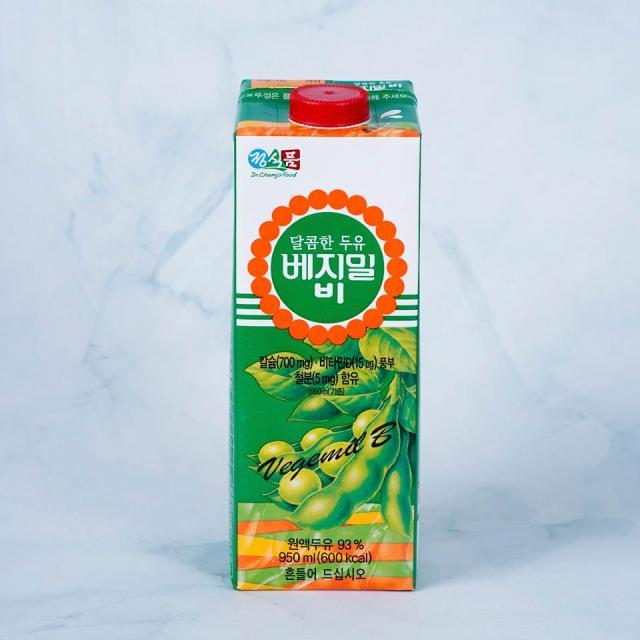Tetra: (216, 69, 434, 608)
